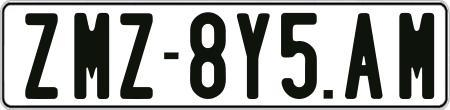5: (278, 11, 316, 103)
8: (190, 9, 227, 102)
A: (344, 12, 381, 101)
M: (73, 13, 111, 103), (397, 11, 436, 98)
Y: (236, 10, 273, 100)
Z: (23, 11, 61, 99), (119, 11, 154, 98)
